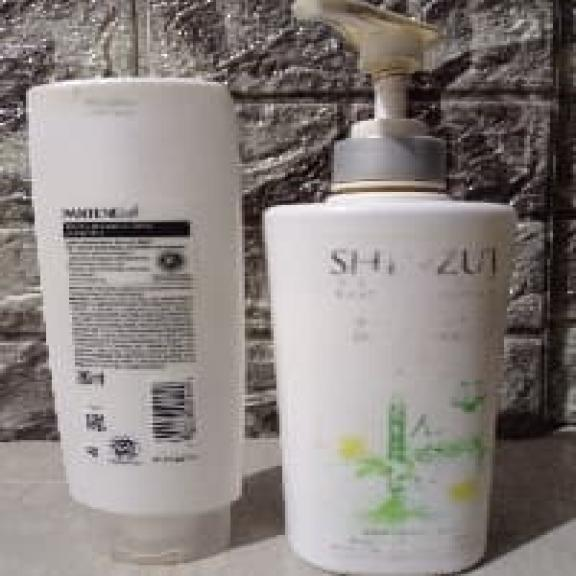Plastik: (266, 1, 515, 575), (29, 78, 243, 561)
